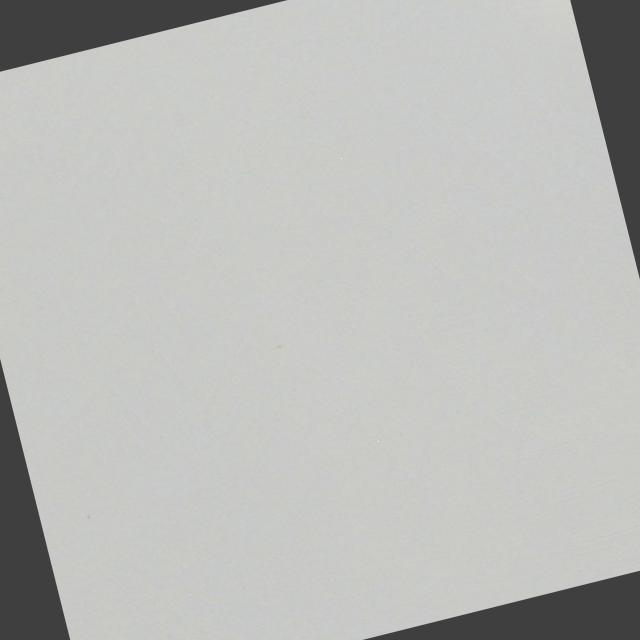pelicula: (518, 0, 576, 36)
